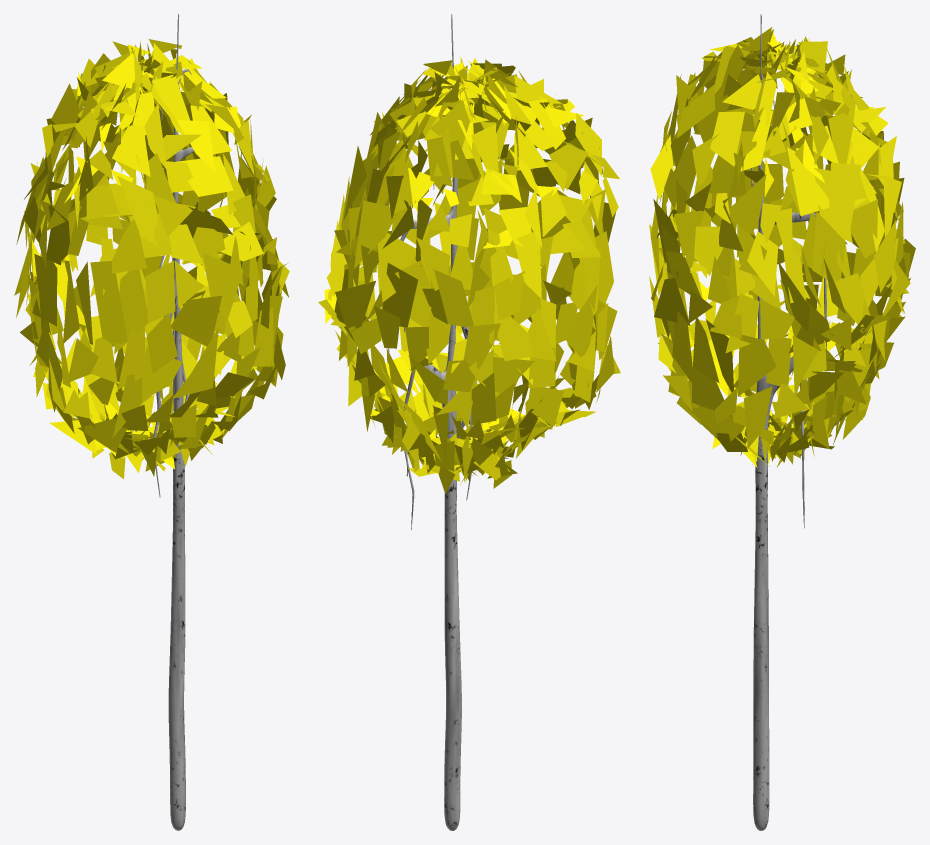
Rendered from Leaves25.002.fbx.
3 renders of one model, left to right at view 1: azimuth 30°, elevation 25°; view 2: azimuth 150°, elevation 25°; view 3: azimuth 270°, elevation 25°, orthographic.
Visible parts, largest first — view 1: Leaves25.002; view 2: Leaves25.002; view 3: Leaves25.002.
Part boxes in pixels (x1=…): Leaves25.002: x1=14, y1=14, x2=289, y2=830; Leaves25.002: x1=318, y1=14, x2=620, y2=830; Leaves25.002: x1=649, y1=14, x2=915, y2=830.
Size of the model in its own units: 816 by 2574 by 762.
Materials: 2 (1 with a texture image).
